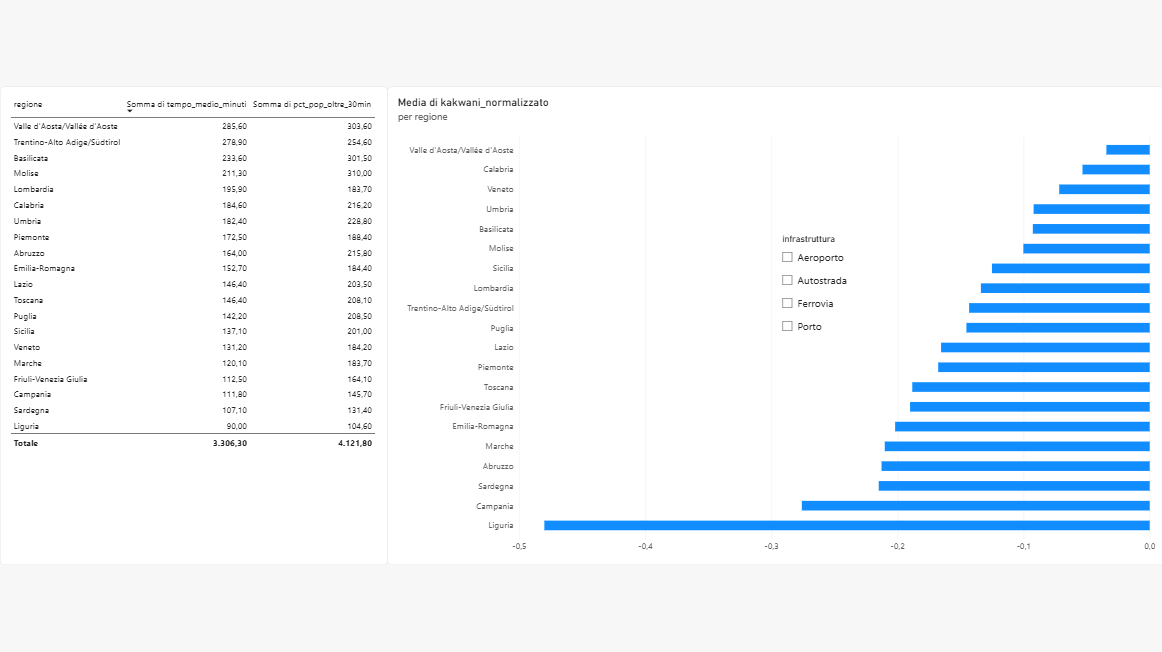

What the dashboard file says about the page in this screenshot:
{"tool":"powerbi","page":{"name":"Pagina 2","canvas":[1920,1080],"ordinal":1},"visuals":[{"type":"clusteredBarChart","fields":{"Category":["Regioni.regione"],"Y":["Avg(Regioni.kakwani_normalizzato)"]},"box":[638.1,144.1,1282.3,788.3],"z":1000},{"type":"tableEx","fields":{"Values":["Regioni.regione","Sum(Regioni.tempo_medio_minuti)","Sum(Regioni.pct_pop_oltre_30min)"]},"box":[0,144.1,638.1,788.3],"z":2000},{"type":"slicer","fields":{"Values":["Regioni.infrastruttura"]},"box":[1280.3,387,640.1,207.9],"z":2001}]}

Visuals, with their boxes in screenshot pixels (x1, y1, x2, y2), scaled from the page's 1920x1080 canvas onto the 1162x652 screenshot:
clusteredBarChart - Regioni.regione x Avg(Regioni.kakwani_normalizzato): {"left": 386, "top": 87, "right": 1161, "bottom": 563}
tableEx - Regioni.regione x Sum(Regioni.tempo_medio_minuti): {"left": 0, "top": 87, "right": 386, "bottom": 563}
slicer - Regioni.infrastruttura: {"left": 775, "top": 234, "right": 1161, "bottom": 359}
